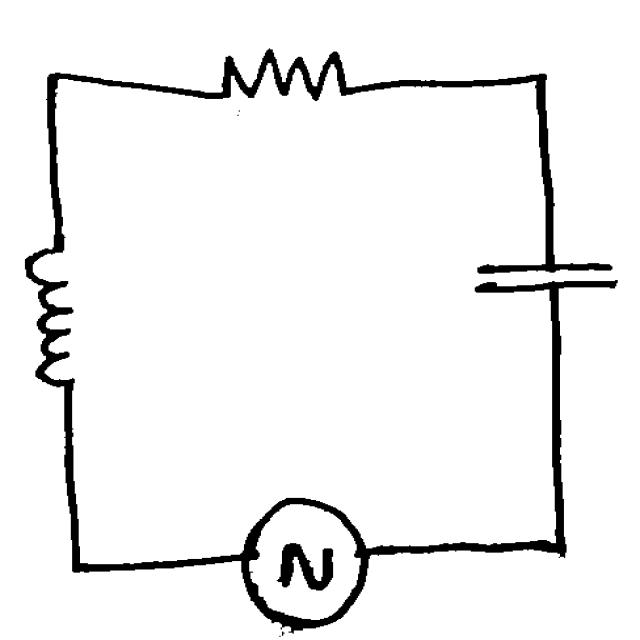ac: (230, 485, 379, 637)
capacitor: (455, 243, 629, 307)
inductor: (14, 227, 112, 405)
resistor: (206, 37, 363, 117)
